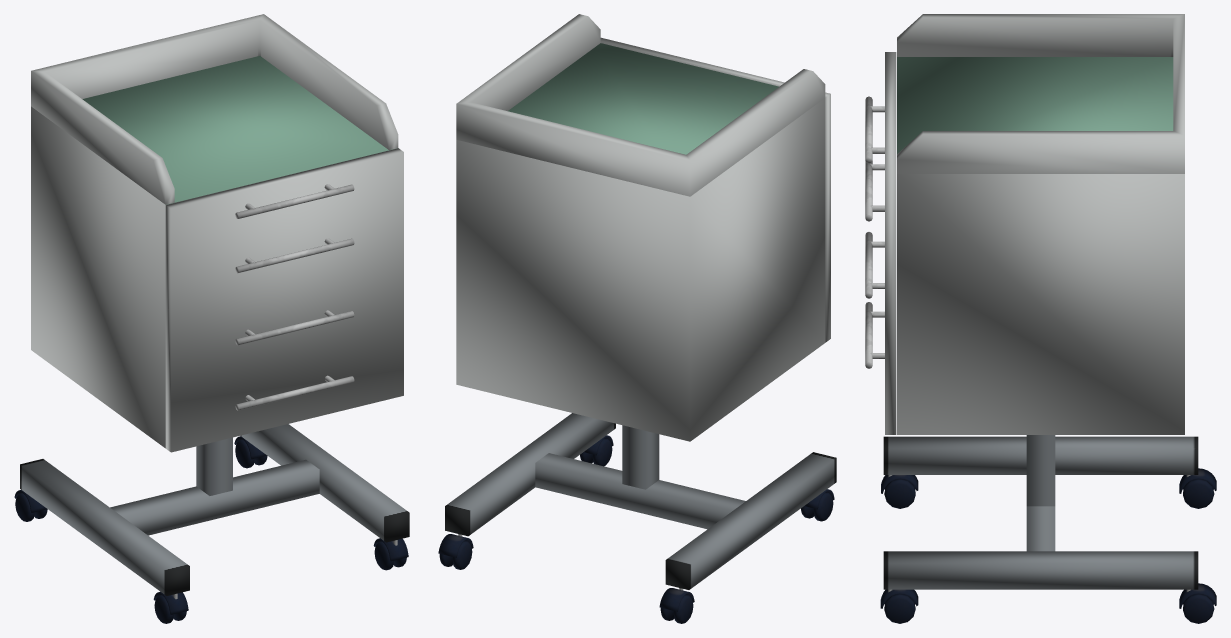
Rendered from tumba.fbx.
3 renders of one model, left to right at view 1: azimuth 30°, elevation 25°; view 2: azimuth 150°, elevation 25°; view 3: azimuth 270°, elevation 25°, orthographic. The views are drawn at different scales.
Parts seen in each view (by area): view 1: tumba; view 2: tumba; view 3: tumba.
Boxes of the visible parts, bbox=[...] form: tumba: bbox=[14, 14, 409, 623]; tumba: bbox=[438, 14, 836, 623]; tumba: bbox=[865, 14, 1216, 623].
Size of the model in its own units: 41.72 by 74.63 by 48.8.
